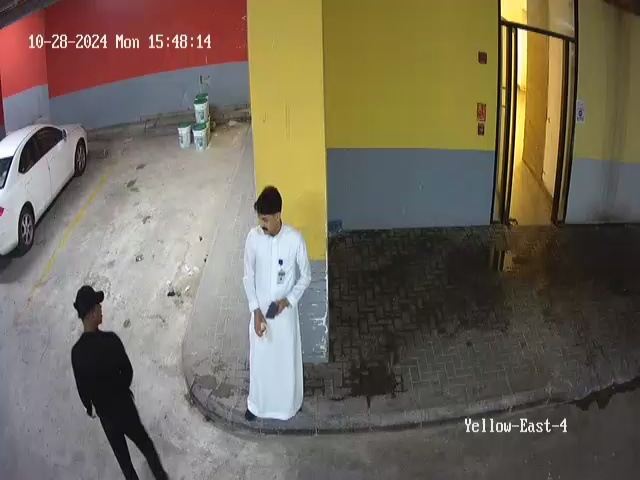male: (71, 285, 171, 480), (242, 186, 312, 423)
